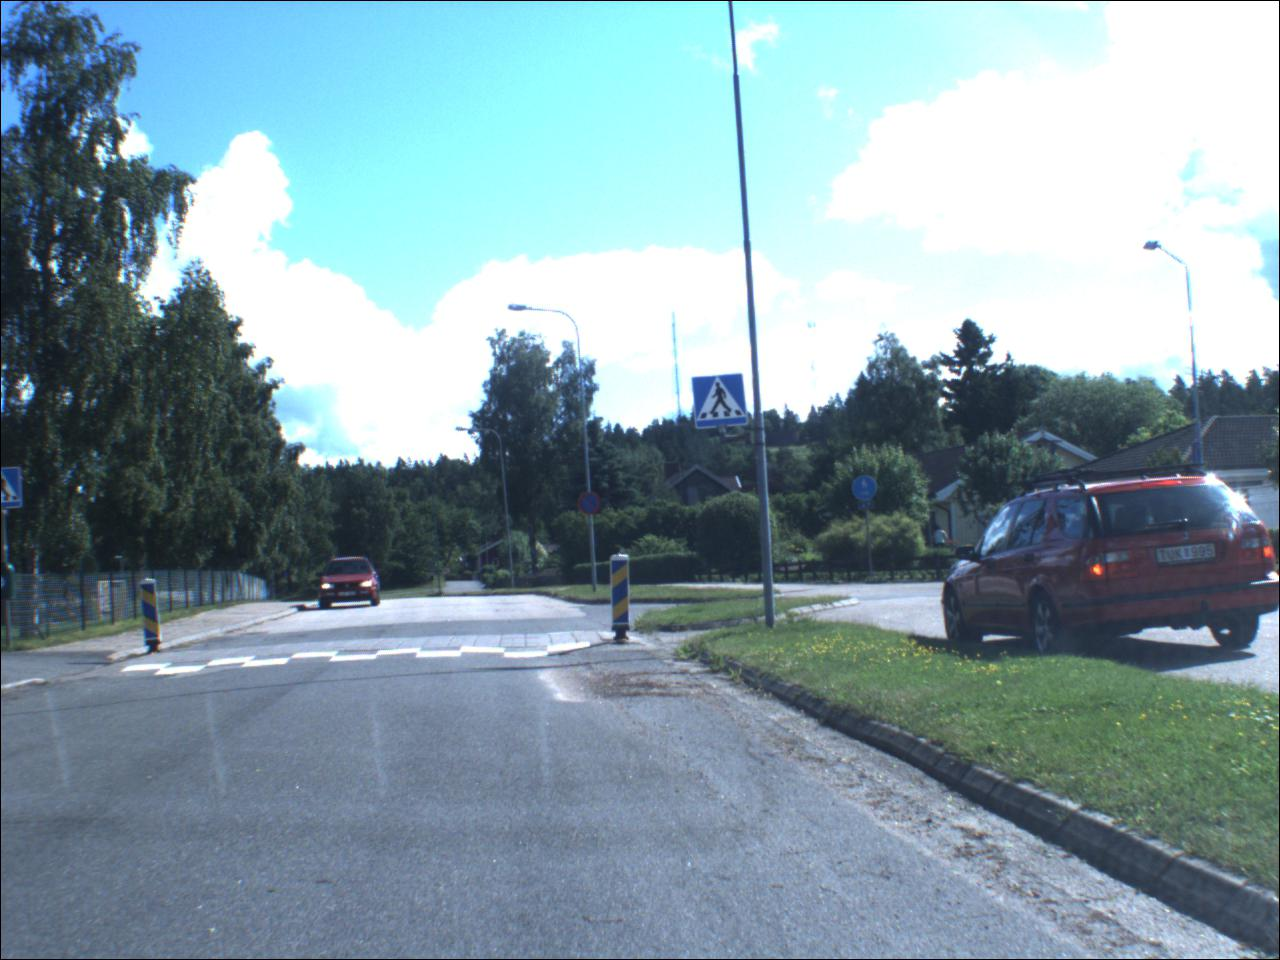NO_PARKING: (578, 493, 607, 519)
PEDESTRIAN_CROSSING: (693, 375, 750, 430), (1, 464, 26, 513)
